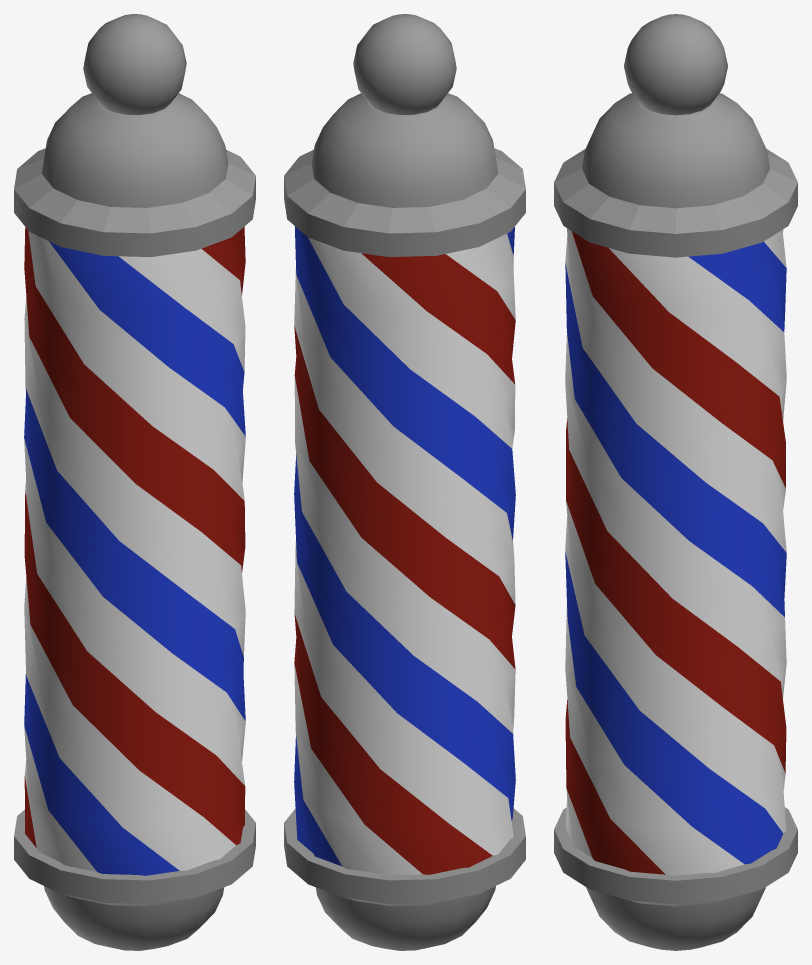
File: BarberPole.fbx
3 renders of one model, left to right at view 1: azimuth 30°, elevation 25°; view 2: azimuth 150°, elevation 25°; view 3: azimuth 270°, elevation 25°, orthographic.
Parts seen in each view (by area): view 1: BarberPole; view 2: BarberPole; view 3: BarberPole.
Boxes of the visible parts, x1=… form: BarberPole: x1=14, y1=14, x2=255, y2=950; BarberPole: x1=284, y1=14, x2=525, y2=950; BarberPole: x1=554, y1=14, x2=797, y2=950.
Bounding box in the file's own units: 46.76 × 195 × 46.76.
